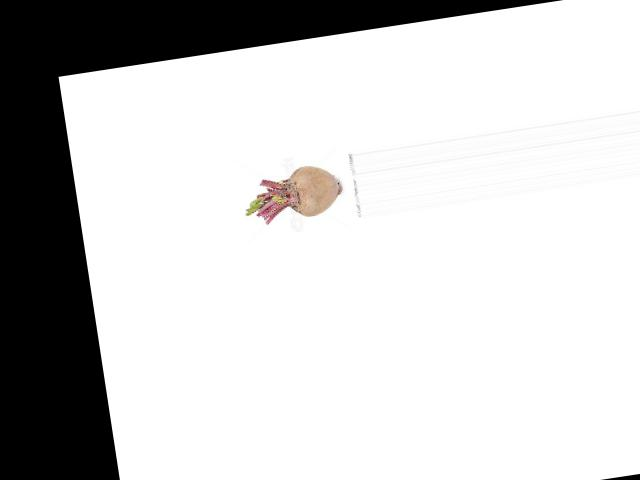beet: (240, 160, 345, 227)
